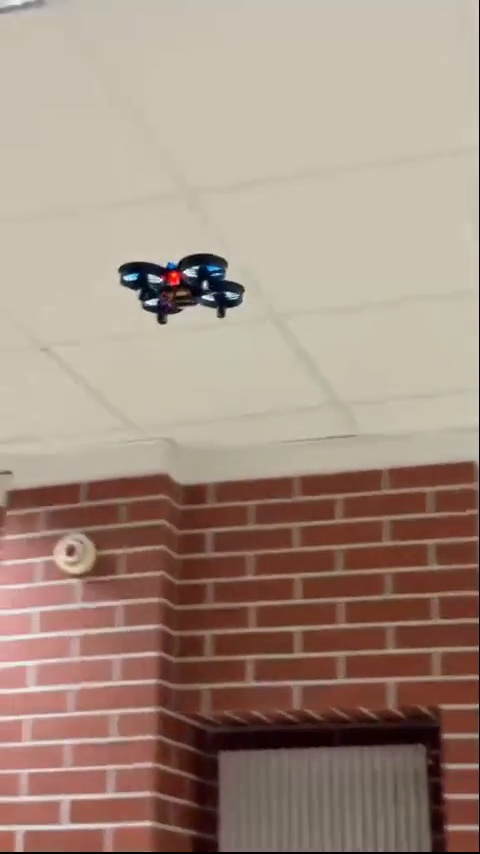drone: (121, 255, 240, 316)
